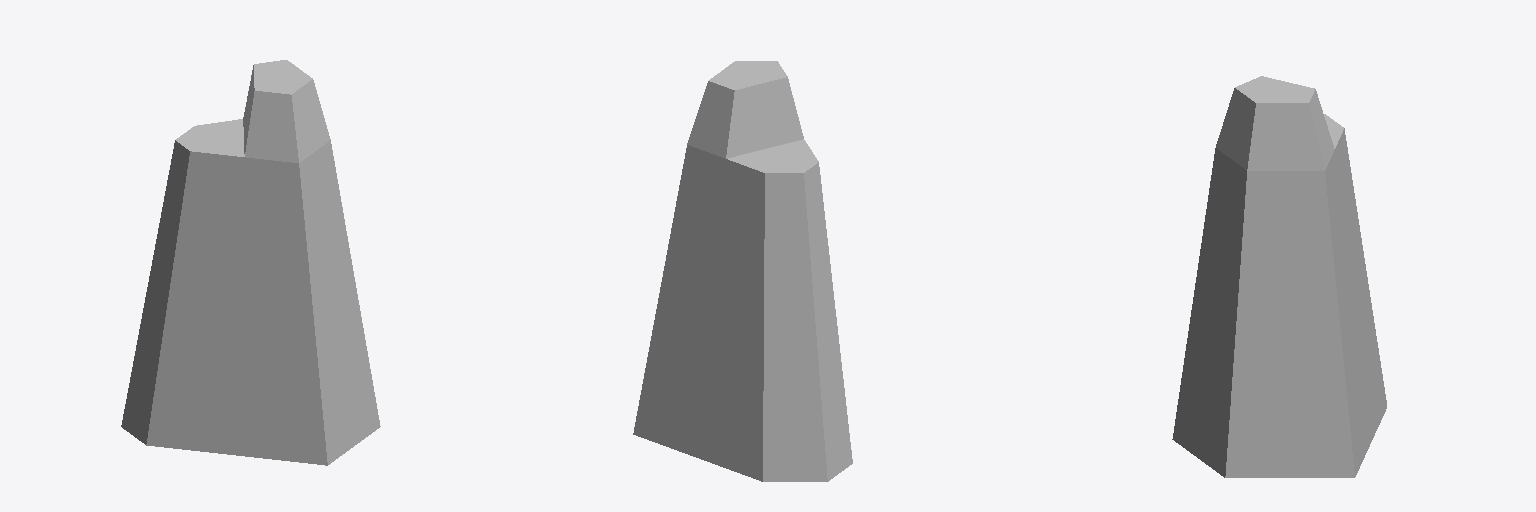
The model's file is stone_tall3.obj.
3 views of the same model, side by side, from view 1: azimuth 30°, elevation 25°; view 2: azimuth 150°, elevation 25°; view 3: azimuth 270°, elevation 25° (orthographic).
Visible parts, largest first — view 1: stone_tall3; view 2: stone_tall3; view 3: stone_tall3.
Boxes of the visible parts, x1,y1,x2,y2 form: stone_tall3: [121, 60, 380, 465]; stone_tall3: [633, 61, 852, 481]; stone_tall3: [1172, 76, 1386, 477].
Size of the model in its own units: 4.56 by 7.83 by 4.37.